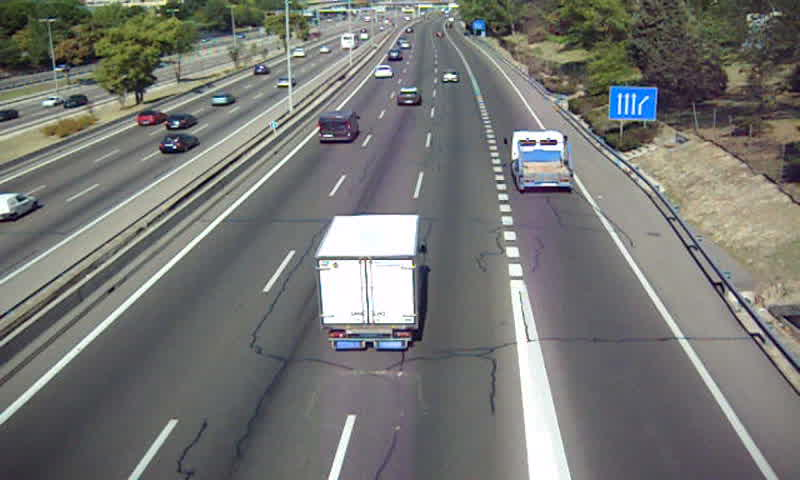car: (396, 86, 424, 109), (372, 64, 392, 81), (441, 70, 460, 84)
small-truck: (317, 216, 423, 350), (510, 129, 573, 190)
van: (317, 110, 360, 142)
